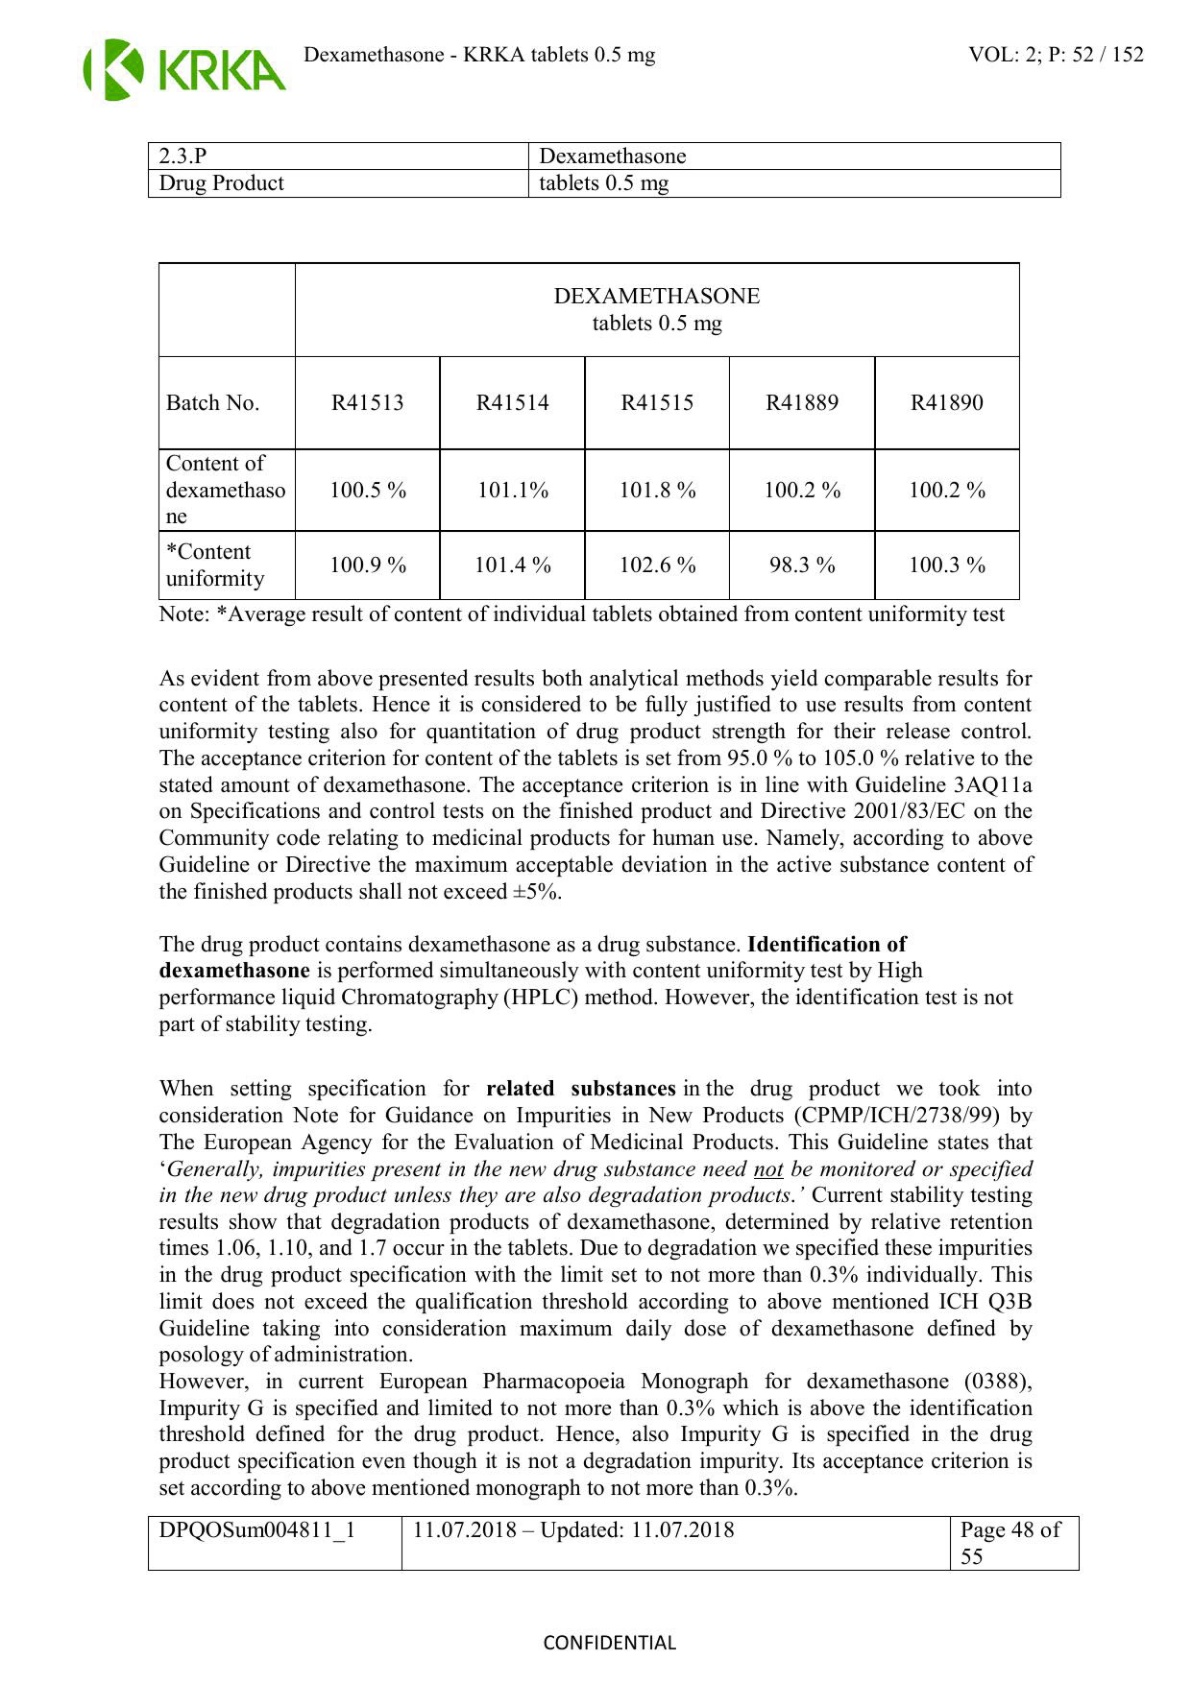full_lined: (147, 141, 1062, 199), (146, 1514, 1081, 1571)
merged_cells: (156, 260, 1020, 601)
